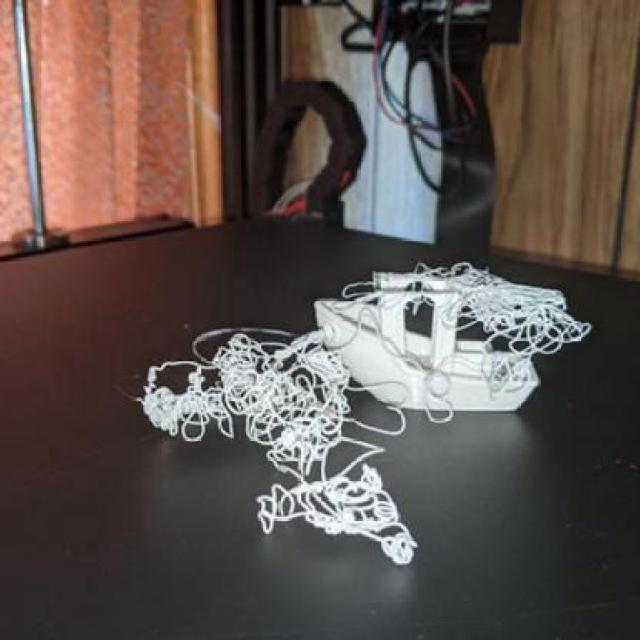Spaghetti: (132, 320, 426, 566), (330, 258, 599, 422)
